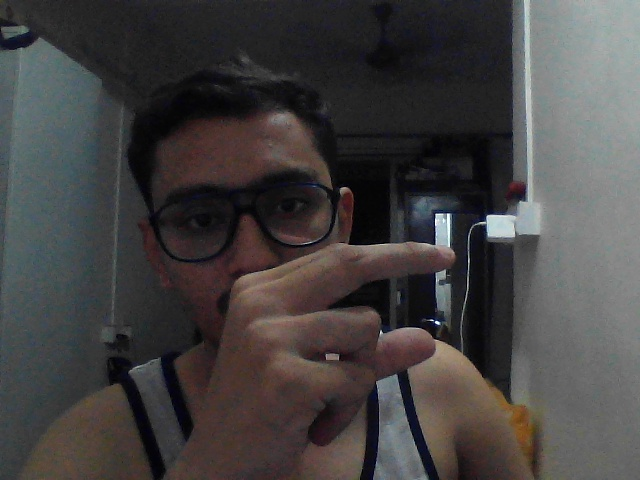No: (160, 227, 480, 471)
